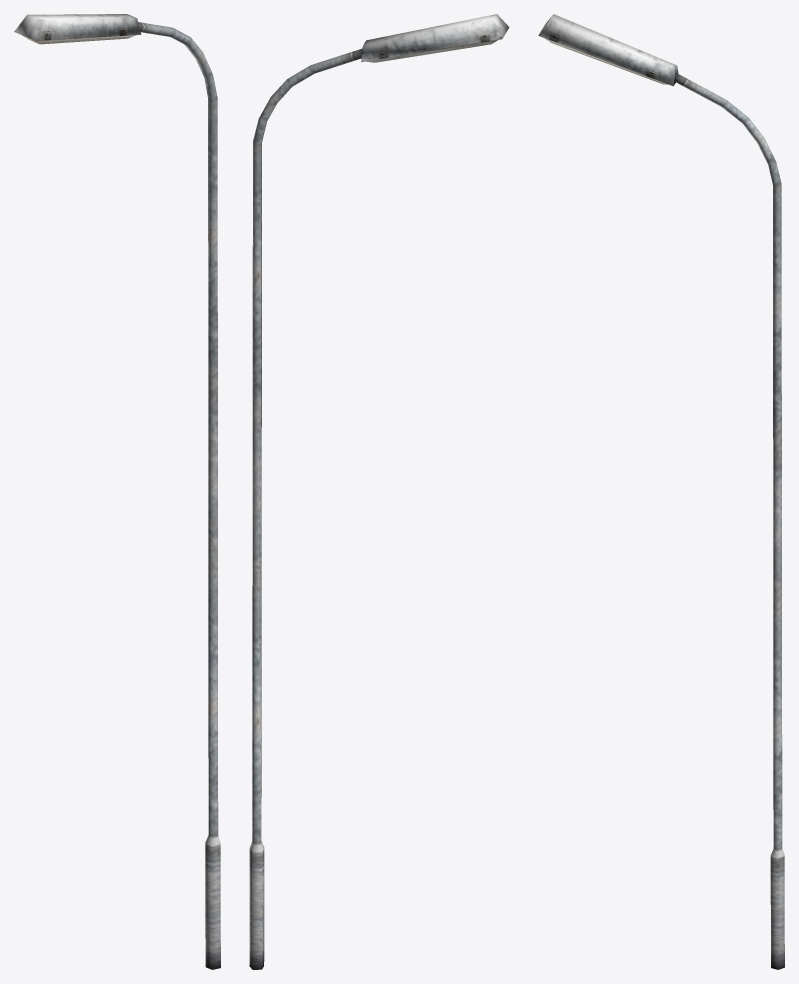
File: LightPole_FBX.fbx
The picture shows the model from 3 angles, left to right: view 1: azimuth 30°, elevation 25°; view 2: azimuth 150°, elevation 25°; view 3: azimuth 330°, elevation 25°; orthographic projection. The views are drawn at different scales.
Visible parts, largest first — view 1: LightPole01; view 2: LightPole01; view 3: LightPole01.
Part boxes in pixels (bbox=[...]): LightPole01: bbox=[14, 14, 220, 969]; LightPole01: bbox=[249, 14, 509, 969]; LightPole01: bbox=[538, 14, 784, 969].
Size of the model in its own units: 3.33 by 13.86 by 1.18.
